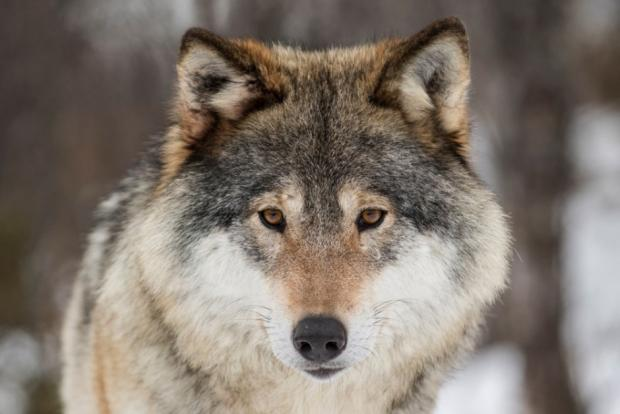wolf: (48, 30, 504, 414)
